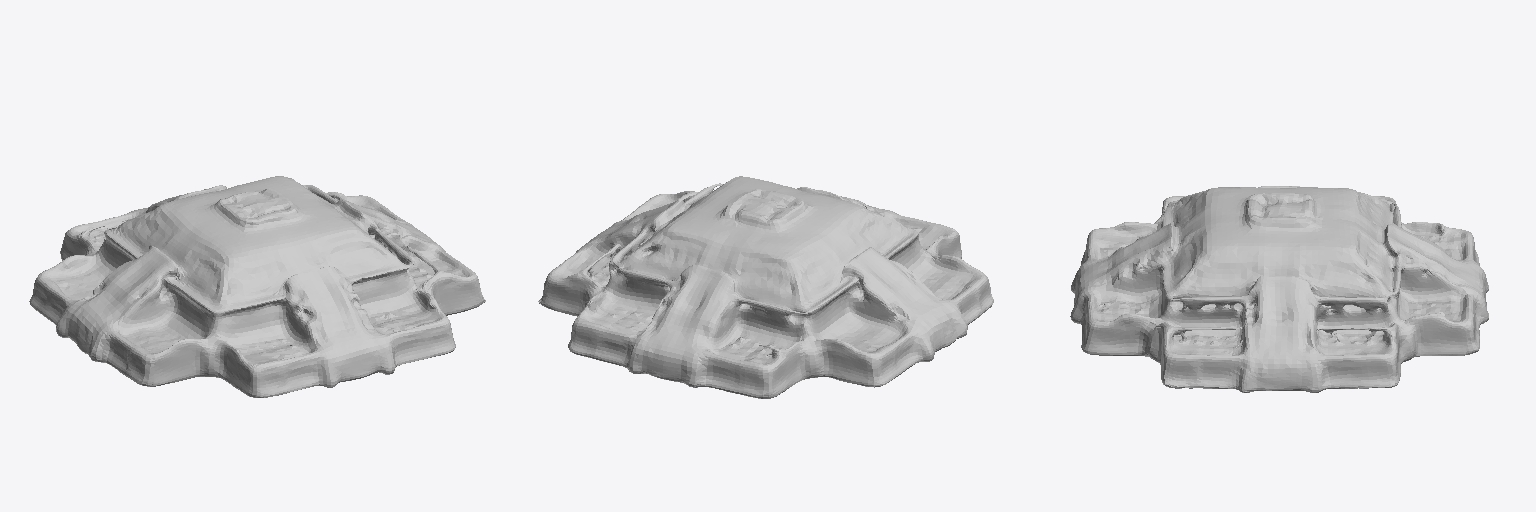
File: a2f6dc99b6f2_a_sci_fi_flat_top_i.obj
3 renders of one model, left to right at view 1: azimuth 30°, elevation 25°; view 2: azimuth 150°, elevation 25°; view 3: azimuth 270°, elevation 25°, orthographic.
Parts seen in each view (by area): view 1: mesh; view 2: mesh; view 3: mesh.
Part boxes in pixels (x1,y1,x2,y2): mesh: (29,176,485,397); mesh: (538,176,993,398); mesh: (1070,186,1488,392).
Bounding box in the file's own units: 0.9947 × 0.2702 × 0.9911.